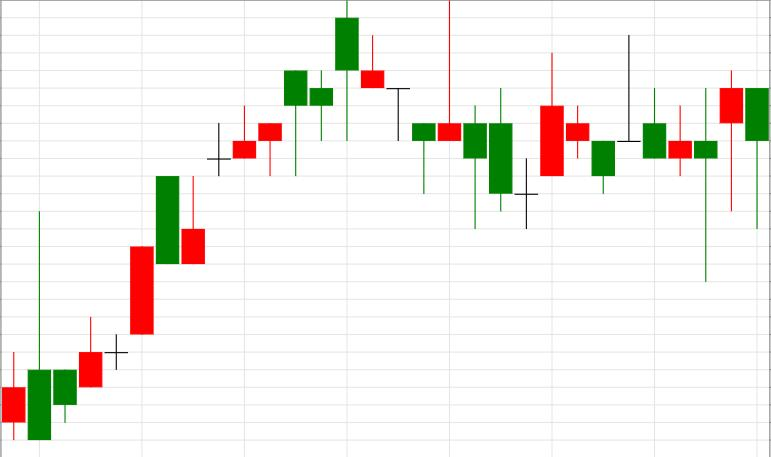morning_star_rise: (335, 1, 564, 229)
